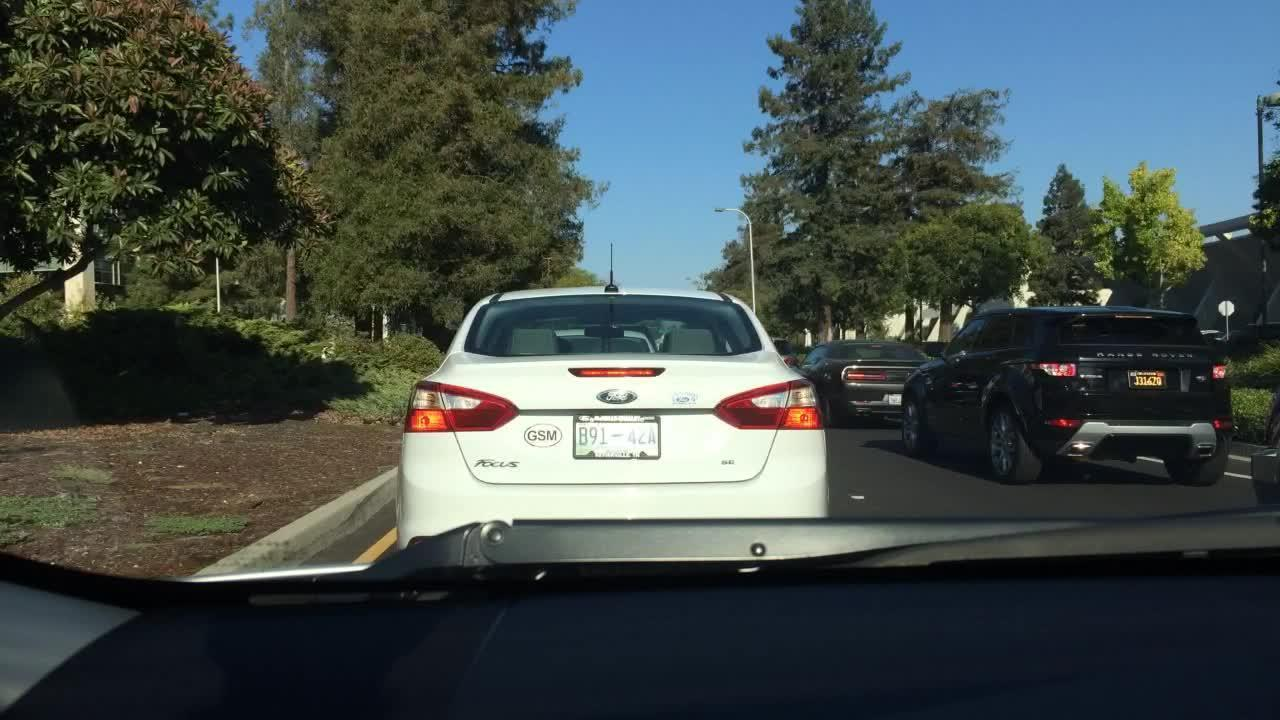ford: (590, 382, 646, 419)
range rover: (1091, 346, 1198, 361)
